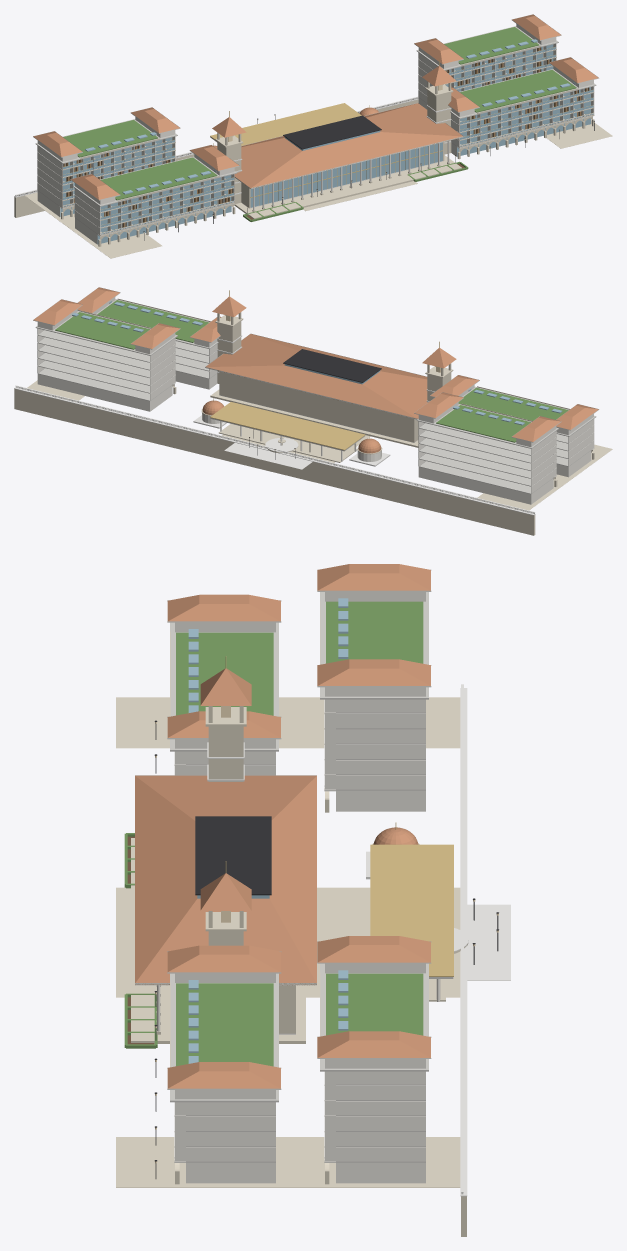
Rendered from E7-7_Arq_T4.fbx.
The picture shows the model from 3 angles, top to bottom: view 1: azimuth 30°, elevation 25°; view 2: azimuth 150°, elevation 25°; view 3: azimuth 270°, elevation 25°; orthographic projection. The views are drawn at different scales.
Visible parts, largest first — view 1: E7-7_Arq_T4; view 2: E7-7_Arq_T4; view 3: E7-7_Arq_T4.
Boxes of the visible parts, x1,y1,x2,y2 form: E7-7_Arq_T4: [14, 14, 612, 258]; E7-7_Arq_T4: [14, 287, 612, 535]; E7-7_Arq_T4: [116, 564, 510, 1236].
Size of the model in its own units: 240 by 49.6 by 79.
